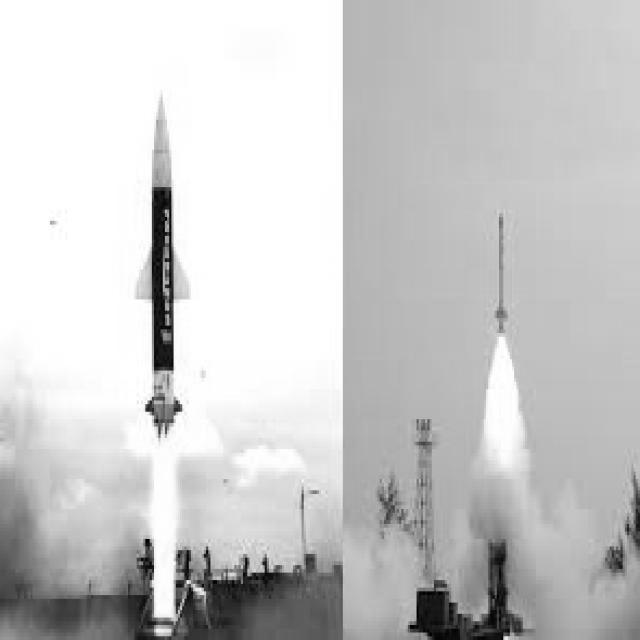Missile: (129, 88, 196, 432), (493, 202, 511, 341)
